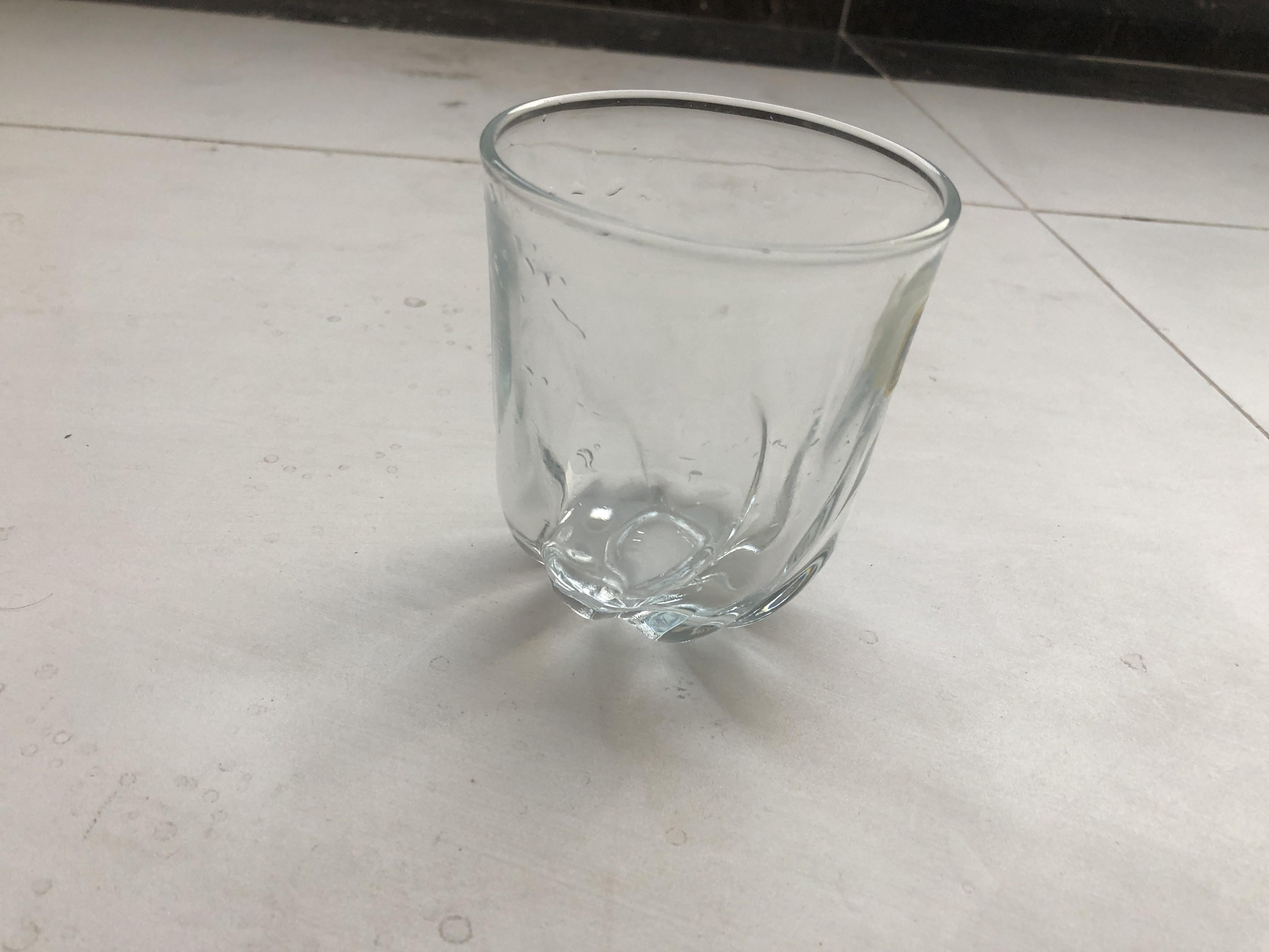glass-normal: (478, 82, 966, 647)
